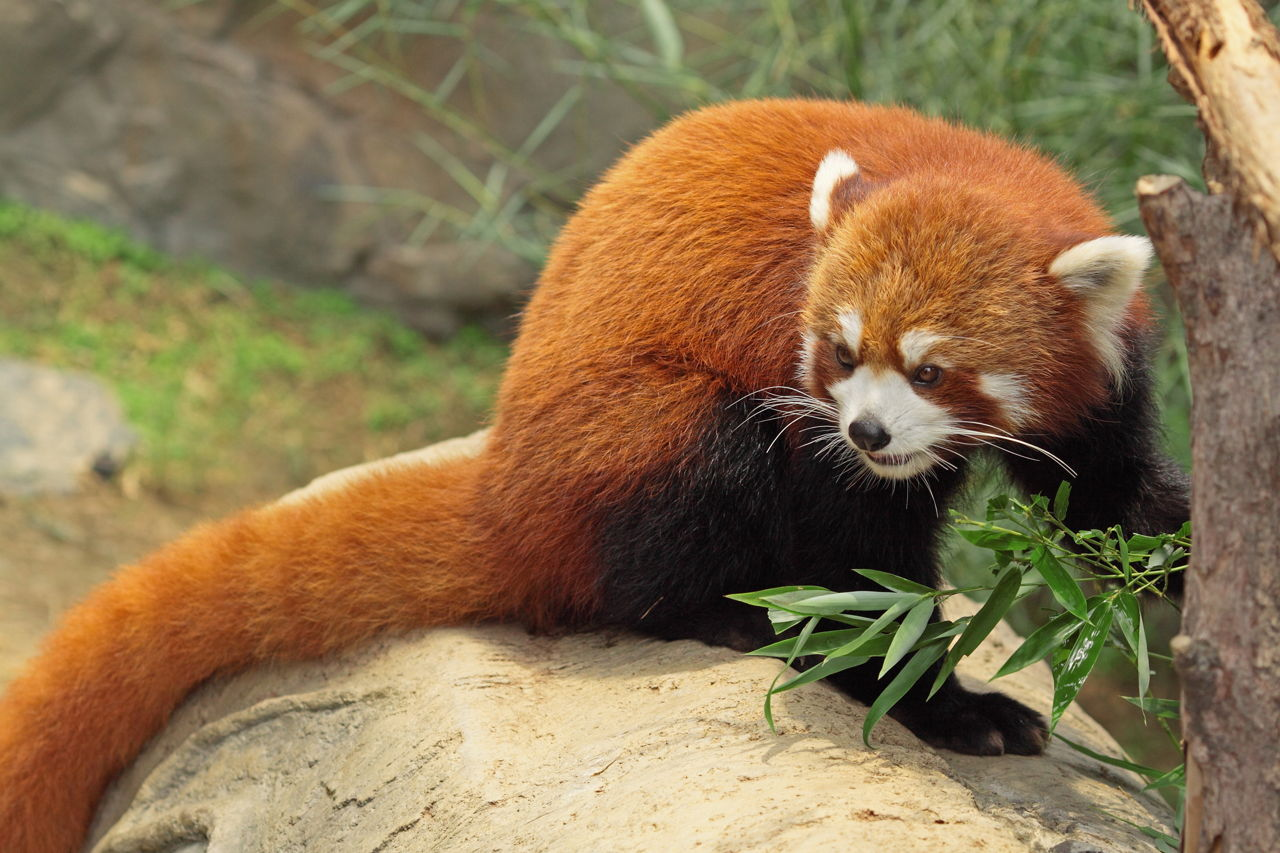red_panda: (59, 95, 1208, 795)
